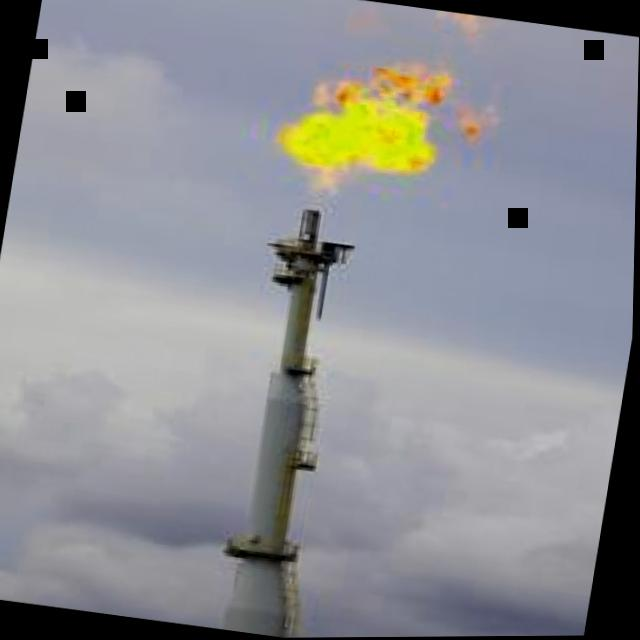fire: (280, 67, 450, 197), (453, 103, 483, 142), (434, 12, 477, 38)
